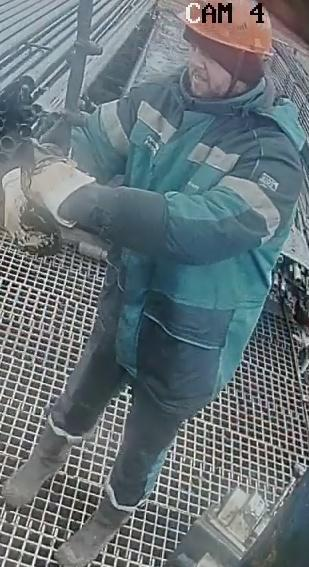gloves: (16, 136, 98, 227), (0, 166, 60, 256)
helmet: (175, 0, 273, 56)
vest: (82, 85, 300, 412)
